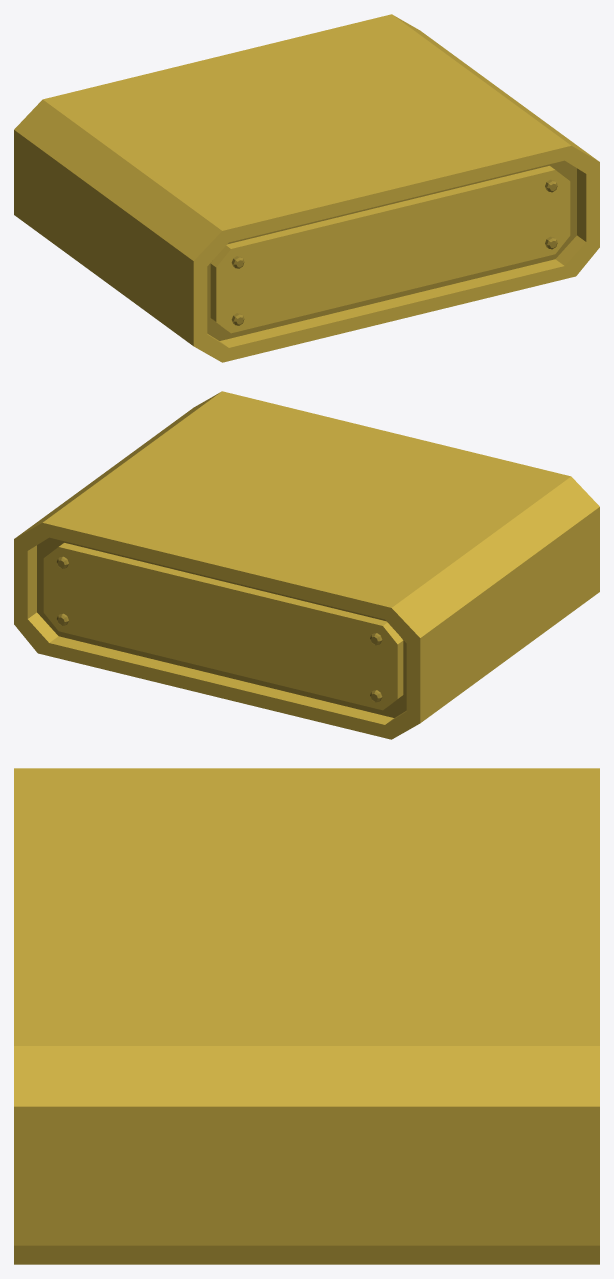
File: Moving Platform.glb
3 views of the same model, one above another, from view 1: azimuth 30°, elevation 25°; view 2: azimuth 150°, elevation 25°; view 3: azimuth 270°, elevation 25° (orthographic). The views are drawn at different scales.
Visible parts, largest first — view 1: MovingPlatform; view 2: MovingPlatform; view 3: MovingPlatform.
Boxes of the visible parts, x1,y1,x2,y2 form: MovingPlatform: (14,14,599,362); MovingPlatform: (14,391,599,739); MovingPlatform: (14,768,599,1264).
Size of the model in its own units: 4.27 by 1.32 by 3.27.
